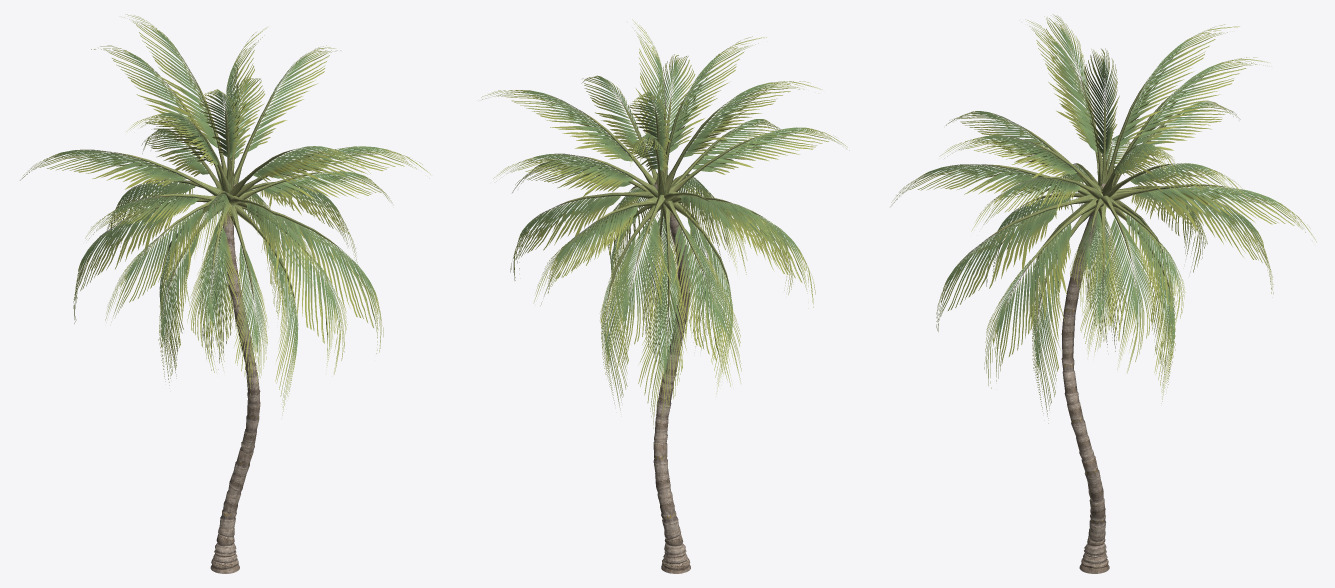
File: palm_coconut.glb
The picture shows the model from 3 angles, left to right: view 1: azimuth 30°, elevation 25°; view 2: azimuth 150°, elevation 25°; view 3: azimuth 270°, elevation 25°; orthographic projection. The views are drawn at different scales.
Visible parts, largest first — view 1: Palm_123_Palm_Leaf_0, Palm_123_Palm_Bark_0, Palm_123_Palm_Trunk_0; view 2: Palm_123_Palm_Leaf_0, Palm_123_Palm_Bark_0, Palm_123_Palm_Trunk_0; view 3: Palm_123_Palm_Leaf_0, Palm_123_Palm_Bark_0, Palm_123_Palm_Trunk_0.
Part boxes in pixels (left/top/right/bottom): Palm_123_Palm_Leaf_0: left=20, top=14, right=431, bottom=415; Palm_123_Palm_Bark_0: left=117, top=77, right=340, bottom=302; Palm_123_Palm_Trunk_0: left=210, top=181, right=260, bottom=573; Palm_123_Palm_Leaf_0: left=481, top=19, right=849, bottom=428; Palm_123_Palm_Bark_0: left=557, top=93, right=763, bottom=313; Palm_123_Palm_Trunk_0: left=653, top=181, right=690, bottom=573; Palm_123_Palm_Leaf_0: left=890, top=14, right=1316, bottom=423; Palm_123_Palm_Bark_0: left=985, top=76, right=1224, bottom=306; Palm_123_Palm_Trunk_0: left=1061, top=183, right=1112, bottom=573.
Size of the model in its own units: 7.36 by 12.2 by 8.84.
Materials: 3 (3 with a texture image).
